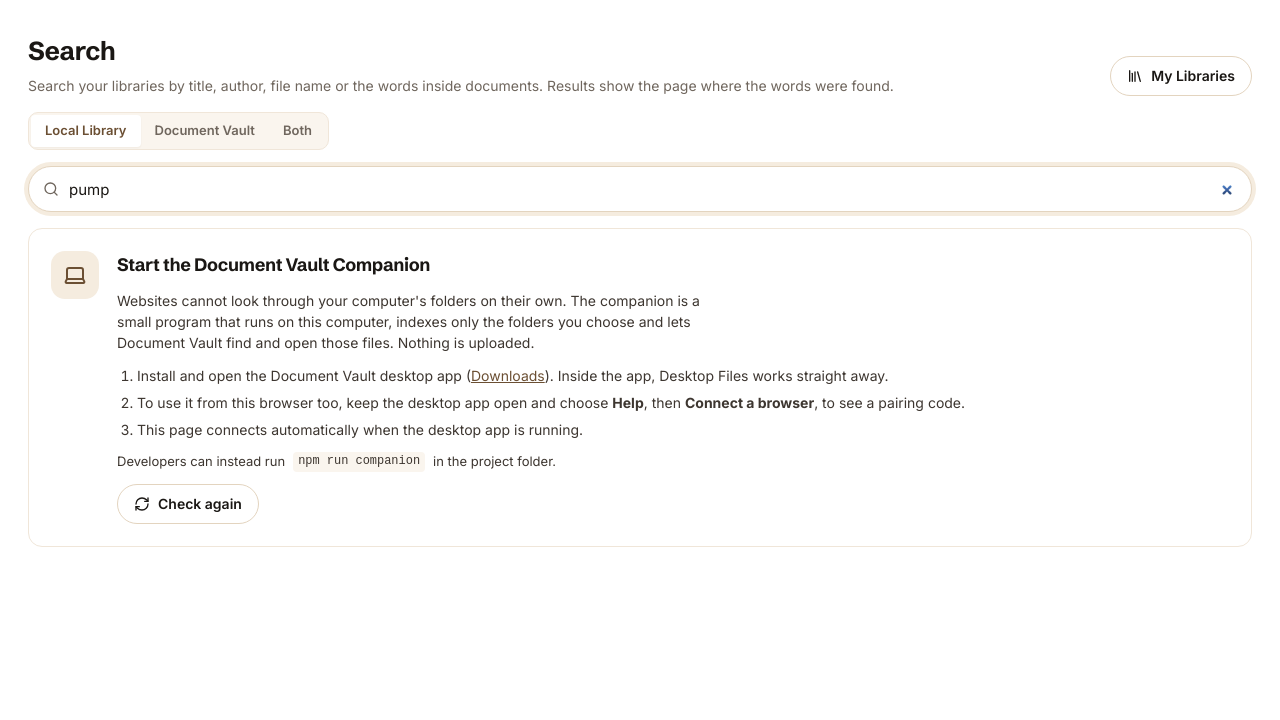
Scenario: Search: uploaded documents › still lists name matches when text search fails
Click the radio button labelled "Document Vault". click: x=205, y=131
box: [140,115,269,147]
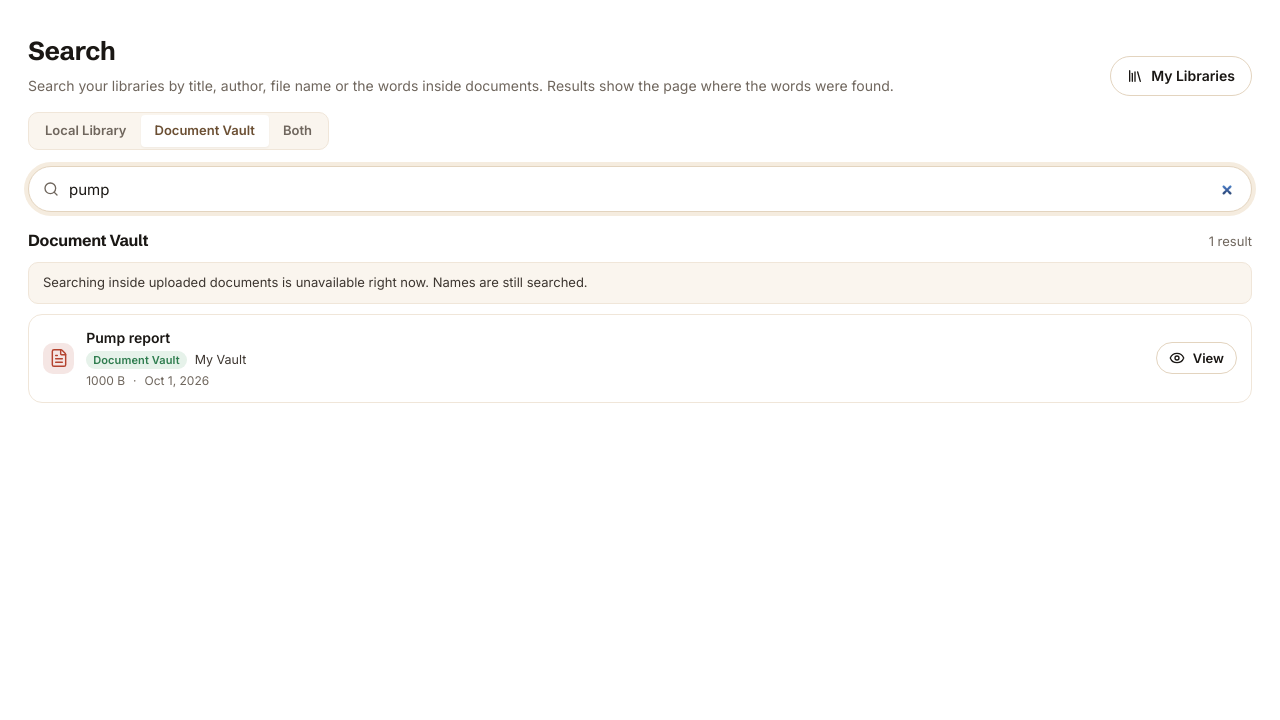
Expected: the text "Names are still searched" is shown, [43,274,588,290]
Expected: the button with class "result-row__name" reads "Pump report", [86,326,170,348]
